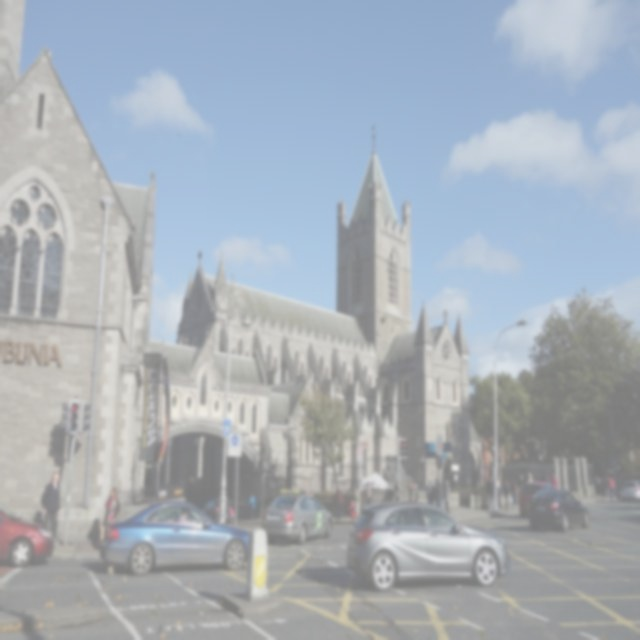pessoa: (40, 470, 60, 543), (101, 486, 121, 542), (416, 508, 438, 554), (146, 508, 167, 552), (593, 473, 617, 501), (332, 484, 344, 526), (177, 506, 198, 526), (426, 476, 437, 506), (444, 478, 452, 518), (486, 474, 494, 512), (544, 470, 558, 490), (502, 479, 510, 512), (406, 480, 418, 502), (352, 484, 360, 514), (432, 477, 440, 507), (520, 470, 534, 487), (436, 482, 444, 511), (364, 481, 373, 506), (303, 486, 315, 504), (510, 482, 518, 508), (250, 492, 256, 522), (497, 476, 502, 490)
